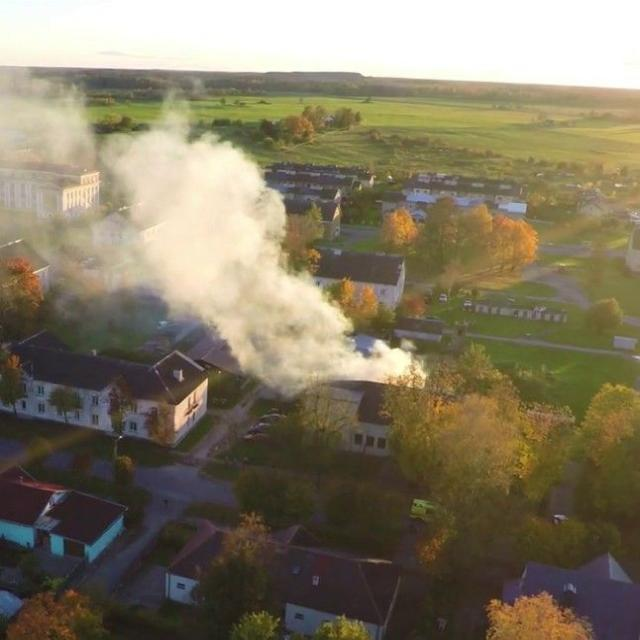Smoke: (0, 65, 428, 386)
